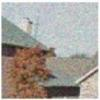chimneys: (21, 16, 33, 35)
